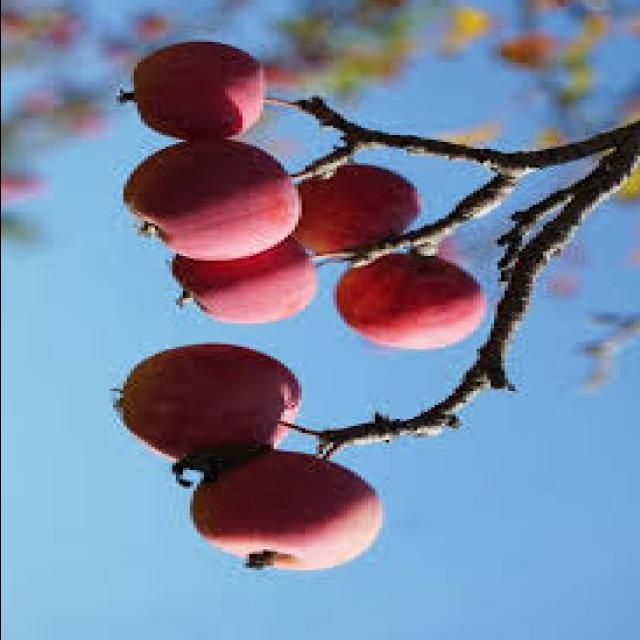agrume: (145, 437, 423, 587), (96, 344, 333, 476), (108, 142, 356, 266), (308, 236, 512, 368), (97, 26, 298, 156), (171, 233, 355, 346), (293, 163, 464, 281)
